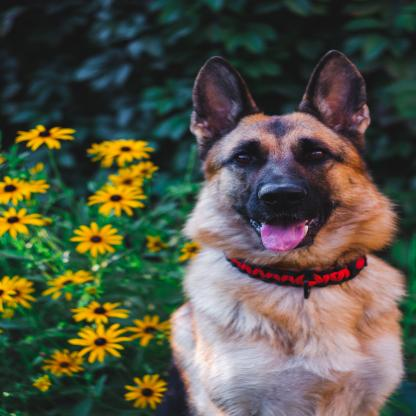dog: (172, 52, 416, 416)
